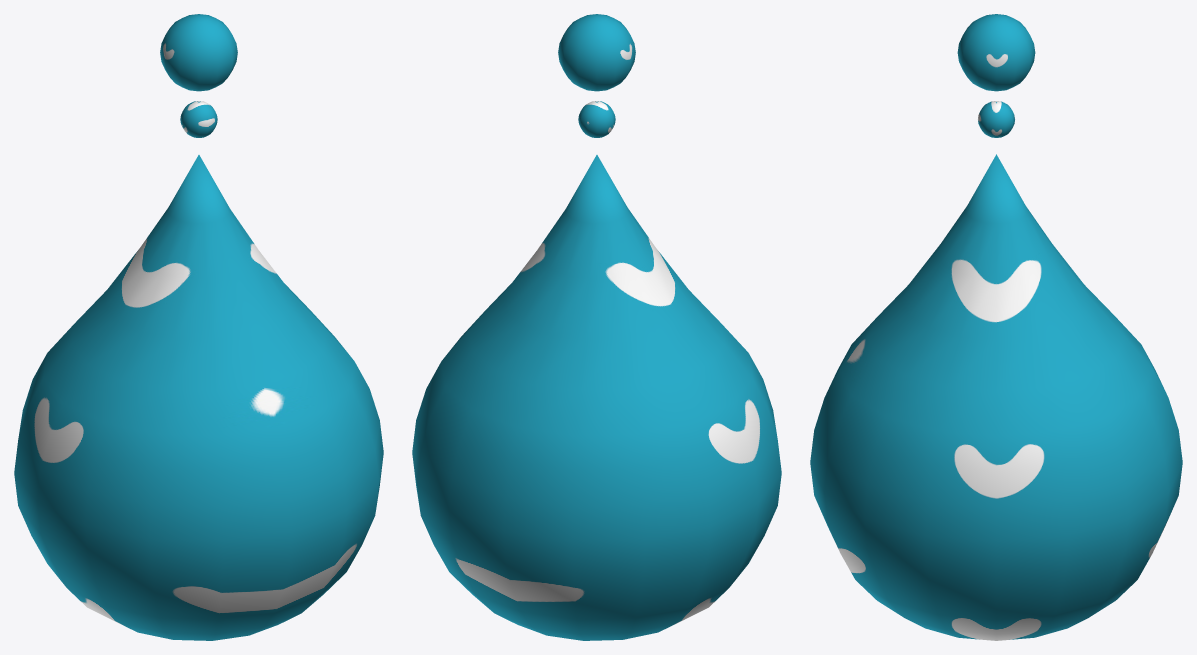
File: WaterTear.fbx
3 views of the same model, side by side, from view 1: azimuth 30°, elevation 25°; view 2: azimuth 150°, elevation 25°; view 3: azimuth 270°, elevation 25° (orthographic).
Parts seen in each view (by area): view 1: WaterTear3, WaterTear5, WaterTear4; view 2: WaterTear3, WaterTear5, WaterTear4; view 3: WaterTear3, WaterTear5, WaterTear4.
Boxes of the visible parts, box(x1,y1,x2,y2) form: WaterTear3: box(14, 155, 383, 640); WaterTear5: box(160, 14, 237, 91); WaterTear4: box(180, 101, 217, 137); WaterTear3: box(412, 155, 781, 640); WaterTear5: box(558, 14, 635, 91); WaterTear4: box(578, 101, 615, 137); WaterTear3: box(810, 154, 1182, 640); WaterTear5: box(957, 14, 1035, 91); WaterTear4: box(978, 101, 1014, 137).
Bounding box in the file's own units: 3.8 × 6.78 × 3.8.
